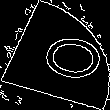O_W: (14, 25, 96, 85)
